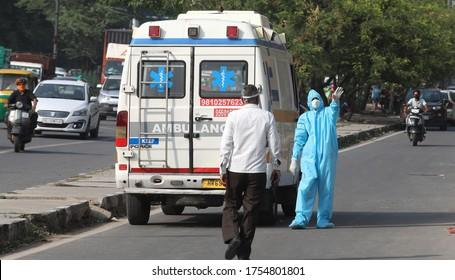ER: (114, 9, 304, 220)
